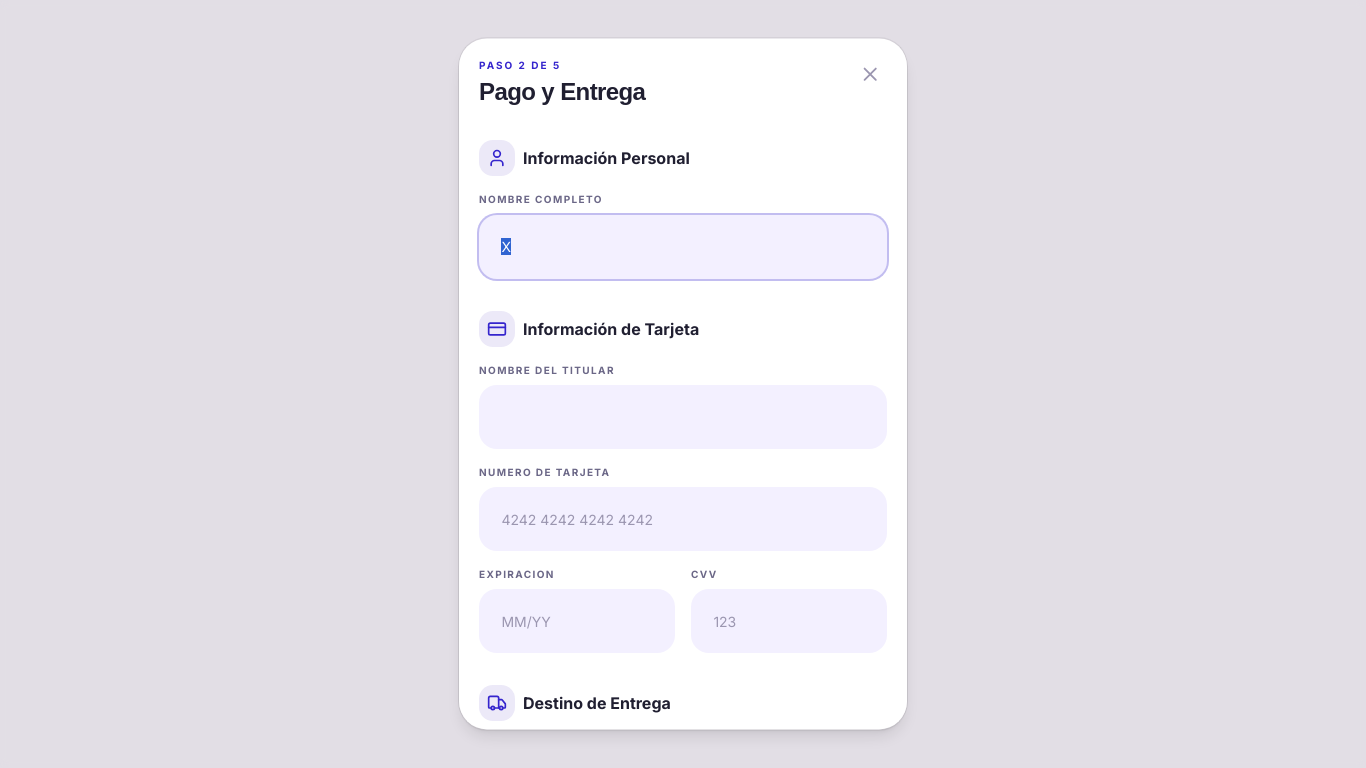
Test: BillingInfoModal › shows validation errors when clearing a required field
This screenshot has width=1366, height=768.
Clear the field labelled "NOMBRE COMPLETO": point(683, 247) [479,215,887,279]
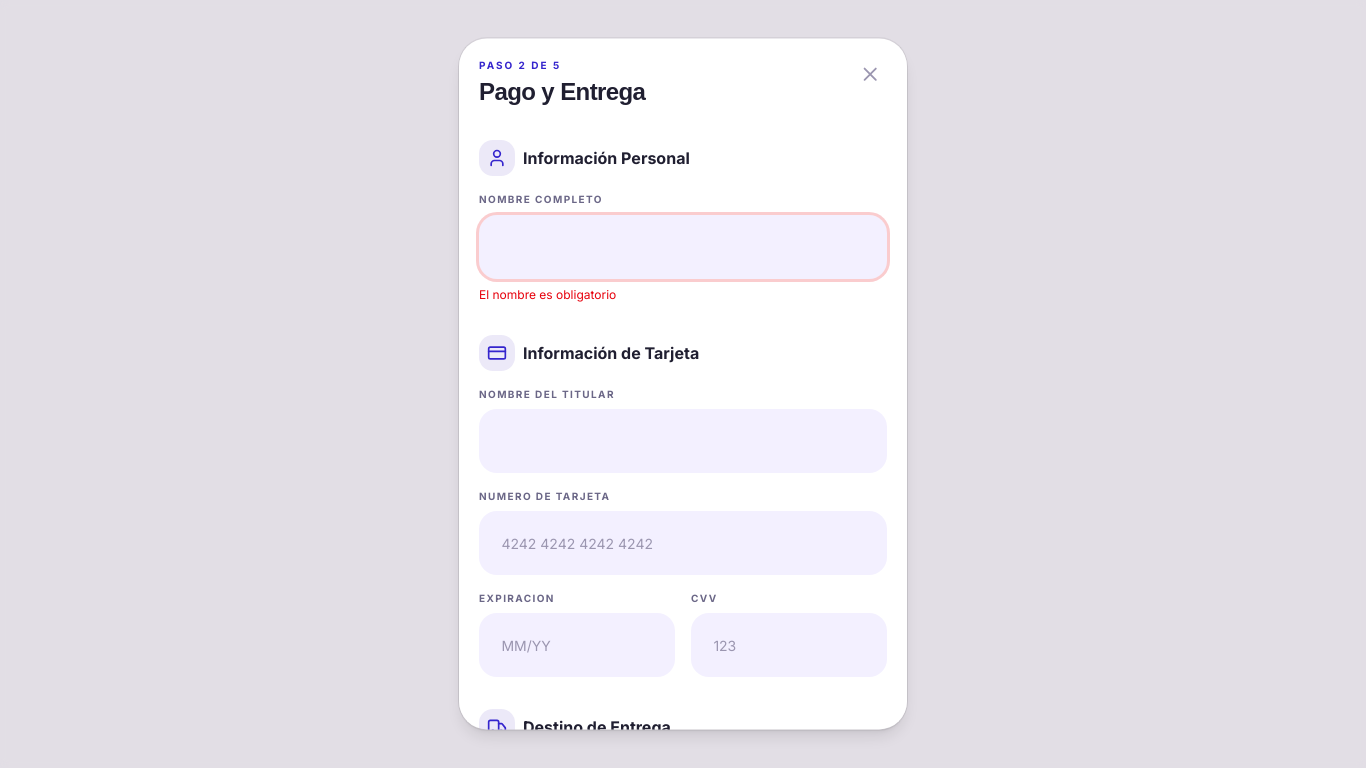
Now the text "El nombre es obligatorio" is shown, box [479,287,616,302]
